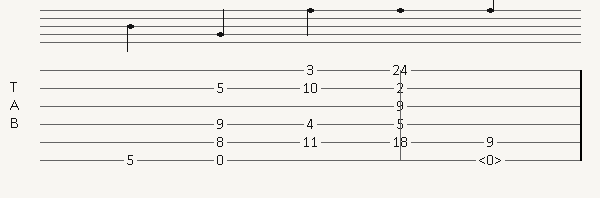0: (216, 153, 228, 167)
10: (302, 81, 322, 95)
11: (302, 135, 322, 149)
18: (392, 135, 412, 149)
2: (396, 81, 408, 95)
24: (392, 63, 412, 77)
3: (306, 63, 318, 77)
4: (306, 117, 318, 131)
5: (126, 153, 138, 167), (216, 81, 228, 95), (396, 117, 408, 131)
8: (216, 135, 228, 149)
9: (216, 117, 228, 131), (396, 99, 408, 113), (486, 135, 498, 149)
harmonic: (478, 153, 506, 167)
